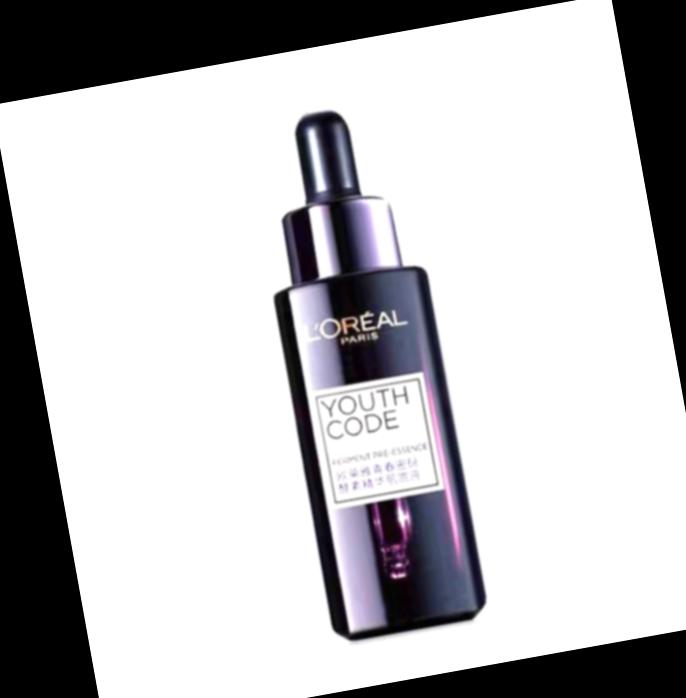cosmetic: (244, 98, 486, 642)
